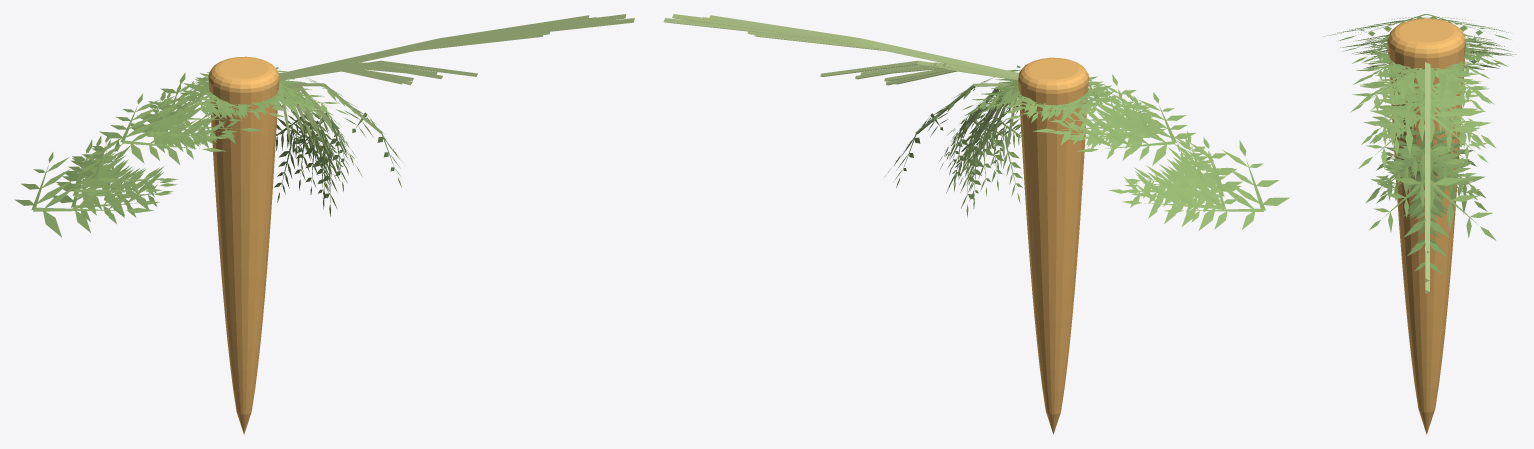
The model's file is carrot_harvest_v09.articulated.glb.
3 views of the same model, side by side, from view 1: azimuth 30°, elevation 25°; view 2: azimuth 150°, elevation 25°; view 3: azimuth 270°, elevation 25° (orthographic). The views are drawn at different scales.
Parts seen in each view (by area): view 1: root, leaf04_link2, leaf01_link2, leaf09_link2, leaf02_link2, leaf06_link2, leaf04_link0, leaf05_link2, leaf08_link2, leaf03_link2, leaf00_link2, leaf07_link2 (+2 smaller); view 2: root, leaf04_link2, leaf01_link2, leaf09_link2, leaf02_link2, leaf06_link2, leaf08_link2, leaf05_link2, leaf03_link2, leaf08_link0, leaf00_link2, leaf07_link2 (+1 smaller); view 3: root, leaf04_link2, leaf09_link2, leaf05_link2, leaf01_link2, leaf06_link2, leaf02_link2, leaf08_link0, leaf03_link2, leaf00_link2, leaf08_link2, leaf07_link2.
Part boxes in pixels (x1,y1,x2,y2): root: [208, 56, 279, 434]; leaf04_link2: [14, 67, 402, 237]; leaf01_link2: [56, 77, 362, 211]; leaf09_link2: [53, 72, 346, 221]; leaf02_link2: [74, 77, 323, 192]; leaf06_link2: [62, 72, 344, 215]; leaf04_link0: [279, 18, 634, 79]; leaf05_link2: [82, 77, 355, 193]; leaf08_link2: [82, 86, 324, 202]; leaf03_link2: [69, 85, 330, 209]; leaf00_link2: [99, 84, 336, 217]; leaf07_link2: [108, 81, 335, 198]; root: [1018, 57, 1088, 434]; leaf04_link2: [888, 65, 1289, 229]; leaf01_link2: [940, 82, 1242, 210]; leaf09_link2: [946, 74, 1236, 230]; leaf02_link2: [972, 81, 1215, 200]; leaf06_link2: [951, 74, 1241, 212]; leaf08_link2: [979, 90, 1203, 203]; leaf05_link2: [939, 77, 1214, 197]; leaf03_link2: [968, 81, 1226, 210]; leaf08_link0: [709, 15, 1019, 77]; leaf00_link2: [959, 87, 1199, 213]; leaf07_link2: [959, 89, 1187, 199]; root: [1387, 18, 1465, 434]; leaf04_link2: [1323, 14, 1511, 282]; leaf09_link2: [1342, 35, 1516, 257]; leaf05_link2: [1357, 33, 1493, 220]; leaf01_link2: [1353, 34, 1500, 234]; leaf06_link2: [1340, 35, 1502, 221]; leaf02_link2: [1360, 38, 1493, 197]; leaf08_link0: [1425, 62, 1430, 253]; leaf03_link2: [1357, 37, 1498, 187]; leaf00_link2: [1365, 45, 1499, 237]; leaf08_link2: [1361, 42, 1492, 195]; leaf07_link2: [1370, 41, 1481, 219].
Size of the model in its own units: 0.2976 by 0.1732 by 0.0778.
Materials: 1 (1 with a texture image).
